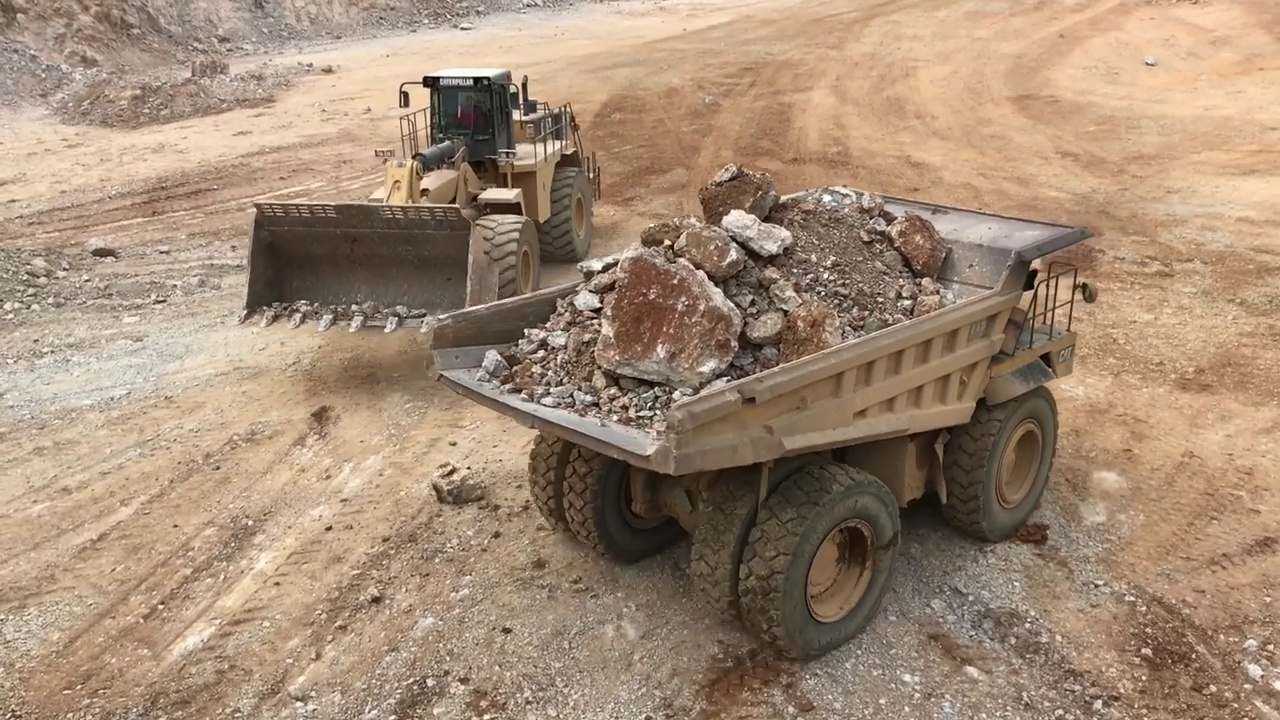dumper: (434, 182, 1100, 668)
wheel loader: (236, 65, 603, 333)
